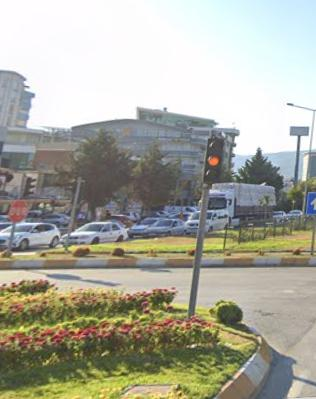yellowlight: (206, 138, 222, 187)
